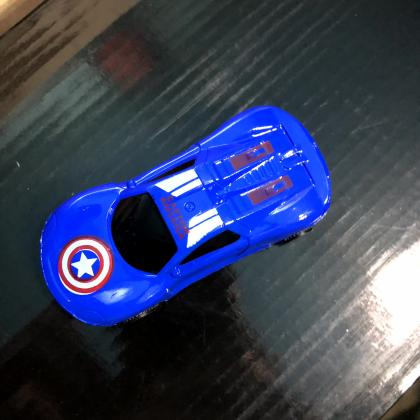Car: (39, 105, 333, 329)
